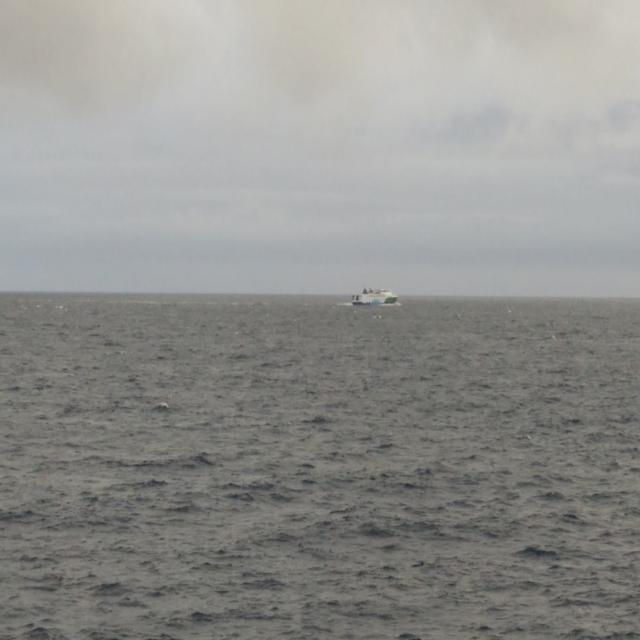houseboat: (349, 280, 401, 310)
